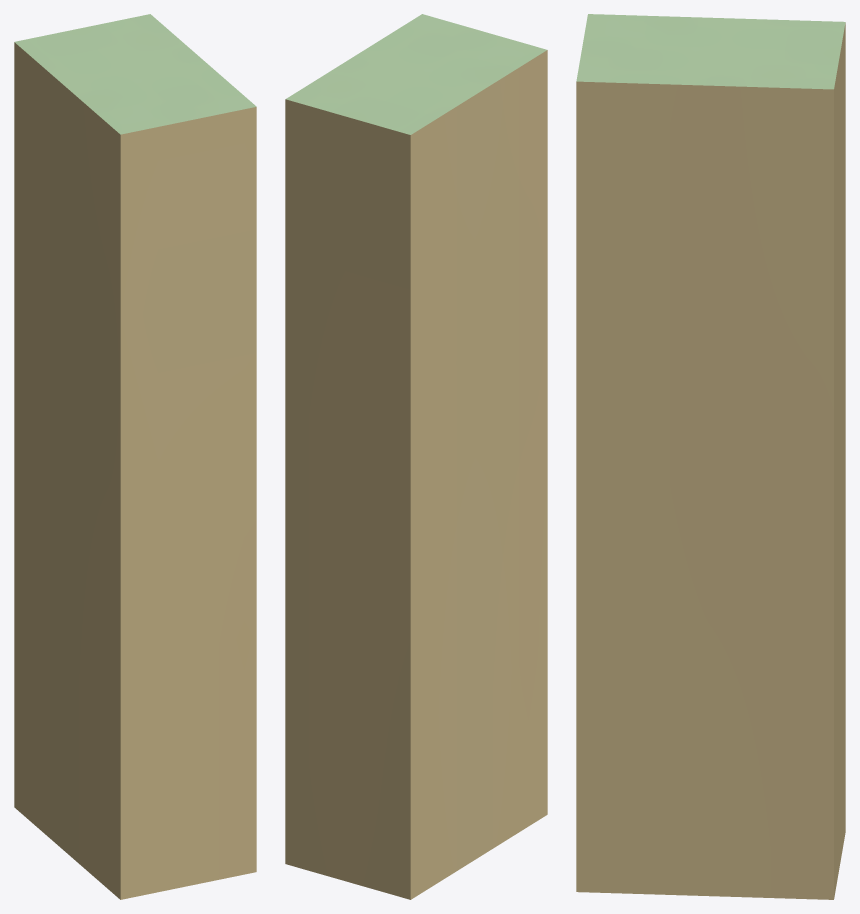
Rendered from Blocks-171.fbx.
3 renders of one model, left to right at view 1: azimuth 30°, elevation 25°; view 2: azimuth 150°, elevation 25°; view 3: azimuth 270°, elevation 25°, orthographic. The views are drawn at different scales.
Visible parts, largest first — view 1: Blocks-171; view 2: Blocks-171; view 3: Blocks-171.
Part boxes in pixels (x1,y1,x2,y2): Blocks-171: (14,14,256,899); Blocks-171: (285,14,547,899); Blocks-171: (576,14,845,899).
Size of the model in its own units: 6410 by 32088 by 9661.
